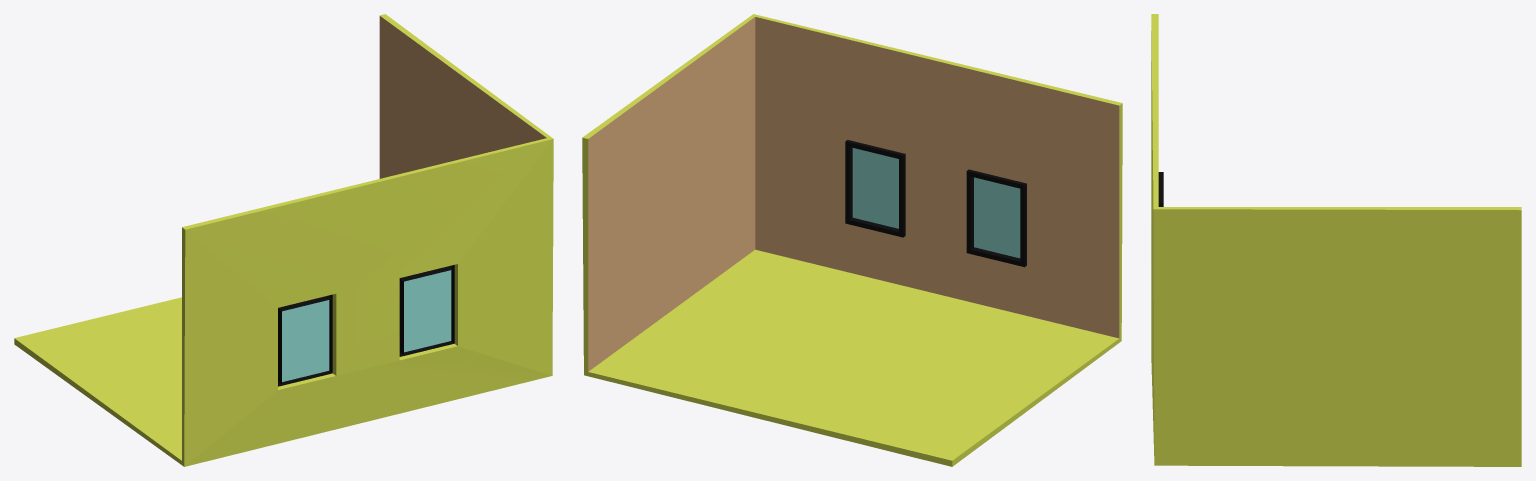
File: Room.fbx
3 views of the same model, side by side, from view 1: azimuth 30°, elevation 25°; view 2: azimuth 150°, elevation 25°; view 3: azimuth 270°, elevation 25° (orthographic). The views are drawn at different scales.
Visible parts, largest first — view 1: Window Frames; view 2: Window Frames; view 3: Window Frames.
Boxes of the visible parts, <box> form: Window Frames: <box>14,14,553,466</box>; Window Frames: <box>582,14,1122,466</box>; Window Frames: <box>1151,14,1521,466</box>.
Bounding box in the file's own units: 499 × 308 × 398.
